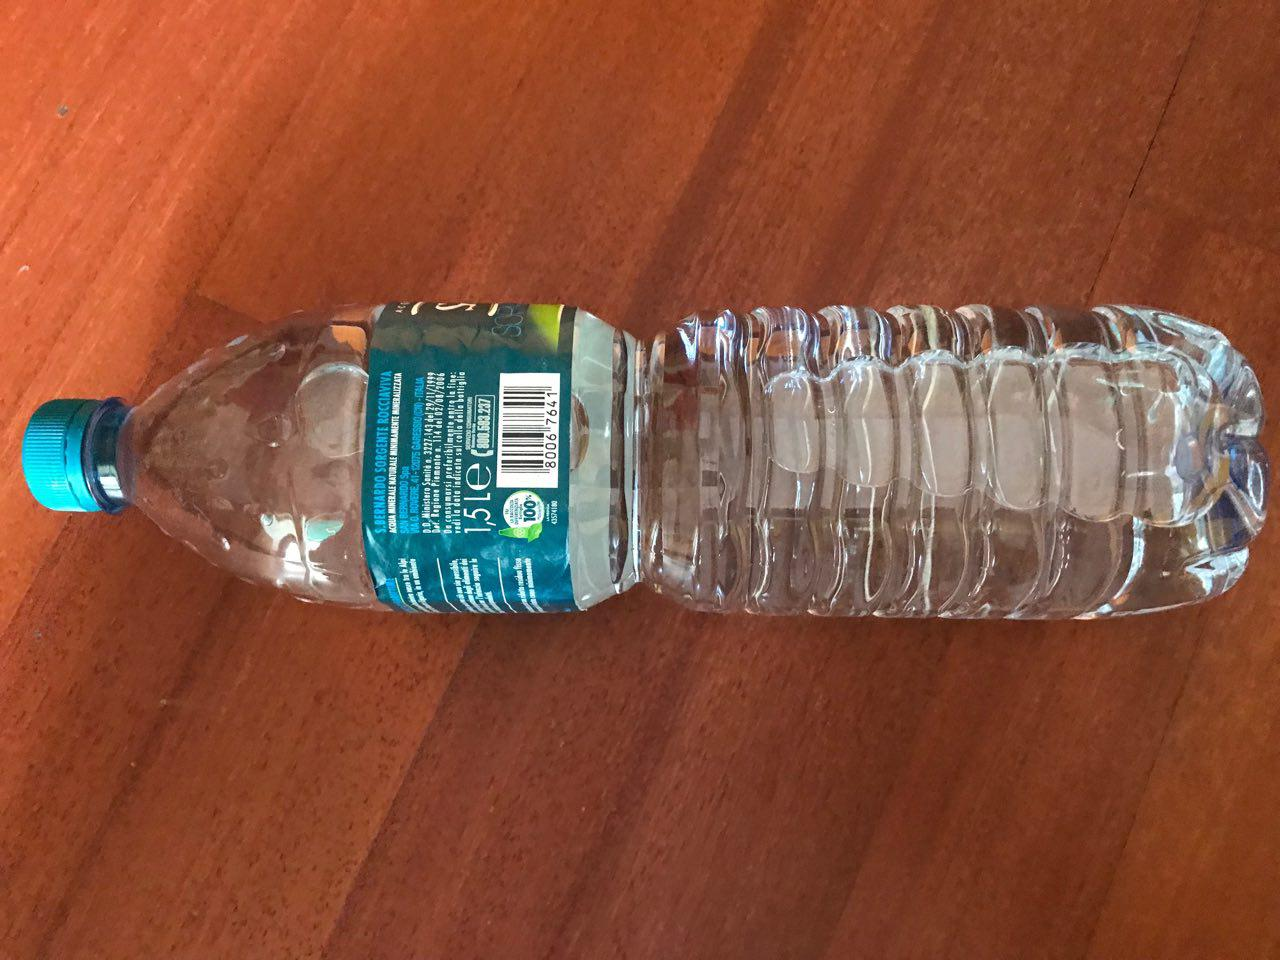san_bernardo: (20, 301, 1270, 623)
